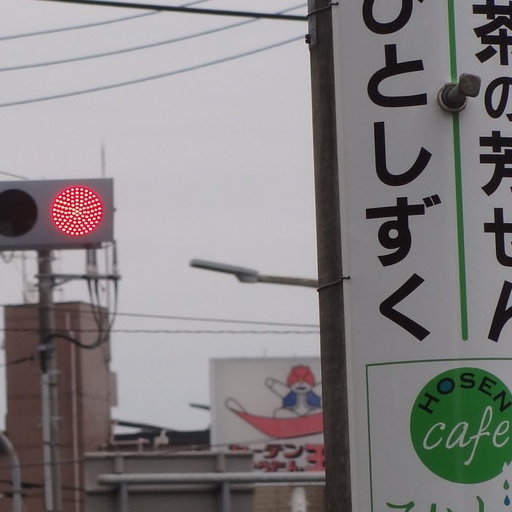Traffic_Signal_Red: (0, 177, 112, 243)
